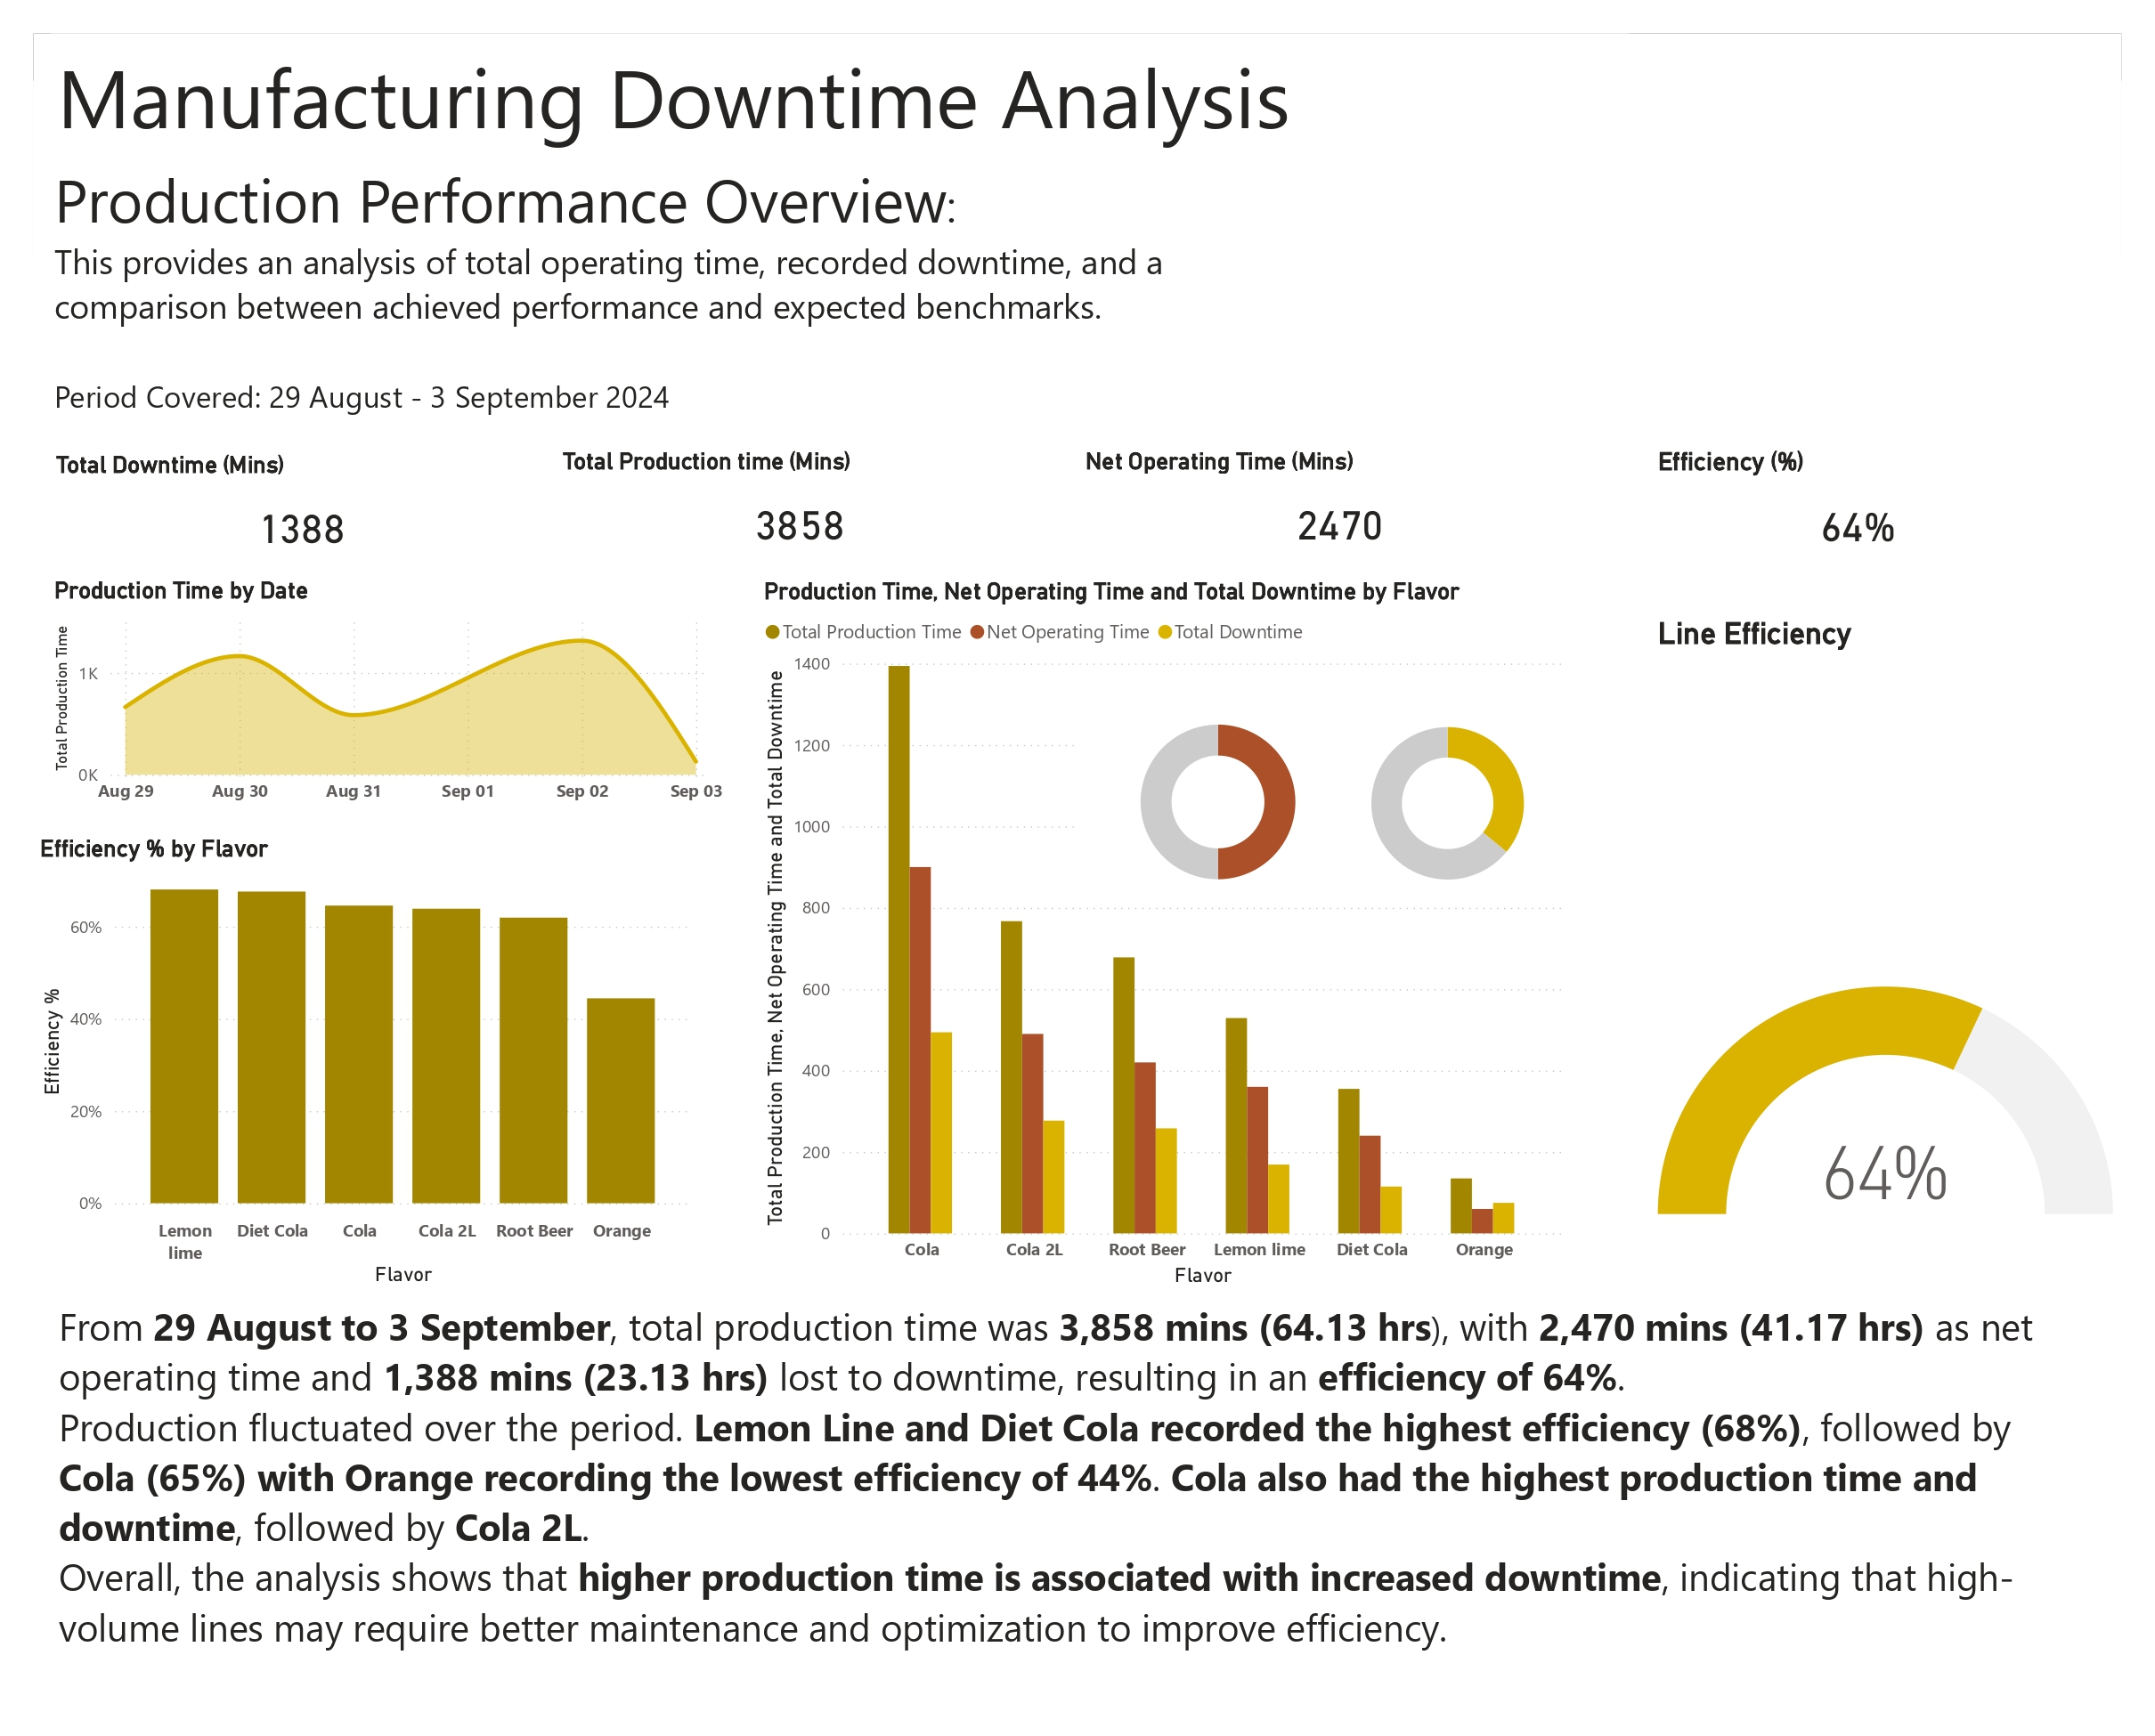

The page's visual inventory and layout, read from the dashboard file:
{"tool":"powerbi","page":{"name":"Production & Downtime Summary","canvas":[1500,1200],"ordinal":0},"visuals":[{"type":"textbox","box":[12.2,14.6,1134.1,87.8],"z":0},{"type":"textbox","box":[12.2,85.4,819.5,156.1],"z":1000},{"type":"textbox","box":[9.8,241.5,822,56.1],"z":2000},{"type":"card","title":"Total Downtime (Mins)","fields":{"Values":["Downtime factors.Total Downtime"]},"box":[10.1,299.4,365.3,91.3],"z":3000},{"type":"card","title":"Total Production time (Mins)","fields":{"Values":["Sum(Line productivity.Minutes)"]},"box":[375.5,296.8,350.1,91.3],"z":4000},{"type":"card","title":"Net Operating Time (Mins)","fields":{"Values":["Downtime factors.Net Operating Time"]},"box":[751,296.8,375.5,91.3],"z":5000},{"type":"card","title":"Efficiency (%)","fields":{"Values":["Downtime factors.Efficiency %"]},"box":[1161.9,296.8,296.8,91.3],"z":6000},{"type":"columnChart","fields":{"Category":["Products.Flavor"],"Y":["Downtime factors.Efficiency %"]},"box":[0,575.6,478,329.3],"z":7000},{"type":"clusteredColumnChart","title":"Production Time, Net Operating Time and Total Downtime by Flavor","fields":{"Y":["Downtime factors.Total Production Time","Downtime factors.Net Operating Time","Downtime factors.Total Downtime"],"Category":["Products.Flavor"]},"box":[520.1,390.7,583.5,515],"z":8000},{"type":"gauge","title":"Line Efficiency","fields":{"Y":["Downtime factors.Efficiency %"]},"box":[1161.9,418.6,337.4,672.3],"z":9000},{"type":"donutChart","fields":{"Y":["Downtime factors.Downtime %","Downtime factors.Remaining %"]},"box":[926.8,480.5,178,146.3],"z":10000},{"type":"donutChart","fields":{"Y":["Downtime factors.Net Operating %","Downtime factors.Remaining %"]},"box":[751.2,478,200,148.8],"z":11000},{"type":"stackedAreaChart","title":"Production Time by Date","fields":{"Category":["Line productivity.Date.Variation.Date Hierarchy.Year","Line productivity.Date.Variation.Date Hierarchy.Quarter","Line productivity.Date.Variation.Date Hierarchy.Month","Line productivity.Date.Variation.Date Hierarchy.Day"],"Y":["Downtime factors.Total Production Time"]},"box":[9.8,390.2,490.2,173.2],"z":12000},{"type":"textbox","box":[12.7,905.7,1468.9,294.3],"z":13000}]}

Visuals, with their boxes on the page's 1500x1200 design canvas (x1, y1, x2, y2). These are canvas units, not pixel positions in the 2155x1736 screenshot, which may show the page scaled, cropped or inside an application window:
textbox: [left=12, top=15, right=1146, bottom=102]
textbox: [left=12, top=85, right=832, bottom=242]
textbox: [left=10, top=242, right=832, bottom=298]
"Total Downtime (Mins)" card: [left=10, top=299, right=375, bottom=391]
"Total Production time (Mins)" card: [left=376, top=297, right=726, bottom=388]
"Net Operating Time (Mins)" card: [left=751, top=297, right=1126, bottom=388]
"Efficiency (%)" card: [left=1162, top=297, right=1459, bottom=388]
columnChart - Products.Flavor x Downtime factors.Efficiency %: [left=0, top=576, right=478, bottom=905]
"Production Time, Net Operating Time and Total Downtime by Flavor" clusteredColumnChart: [left=520, top=391, right=1104, bottom=906]
"Line Efficiency" gauge: [left=1162, top=419, right=1499, bottom=1091]
donutChart - Downtime factors.Downtime % x Downtime factors.Remaining %: [left=927, top=480, right=1105, bottom=627]
donutChart - Downtime factors.Net Operating % x Downtime factors.Remaining %: [left=751, top=478, right=951, bottom=627]
"Production Time by Date" stackedAreaChart: [left=10, top=390, right=500, bottom=563]
textbox: [left=13, top=906, right=1482, bottom=1200]
